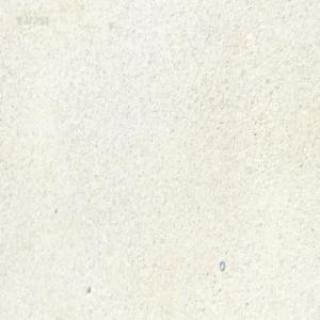Washertrack_idkeyframe: (218, 259, 224, 270)
